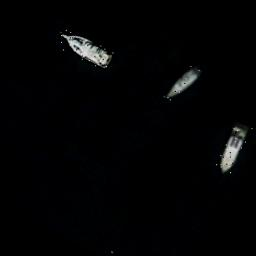boat: (54, 27, 116, 72), (212, 118, 254, 178), (164, 59, 204, 108)
